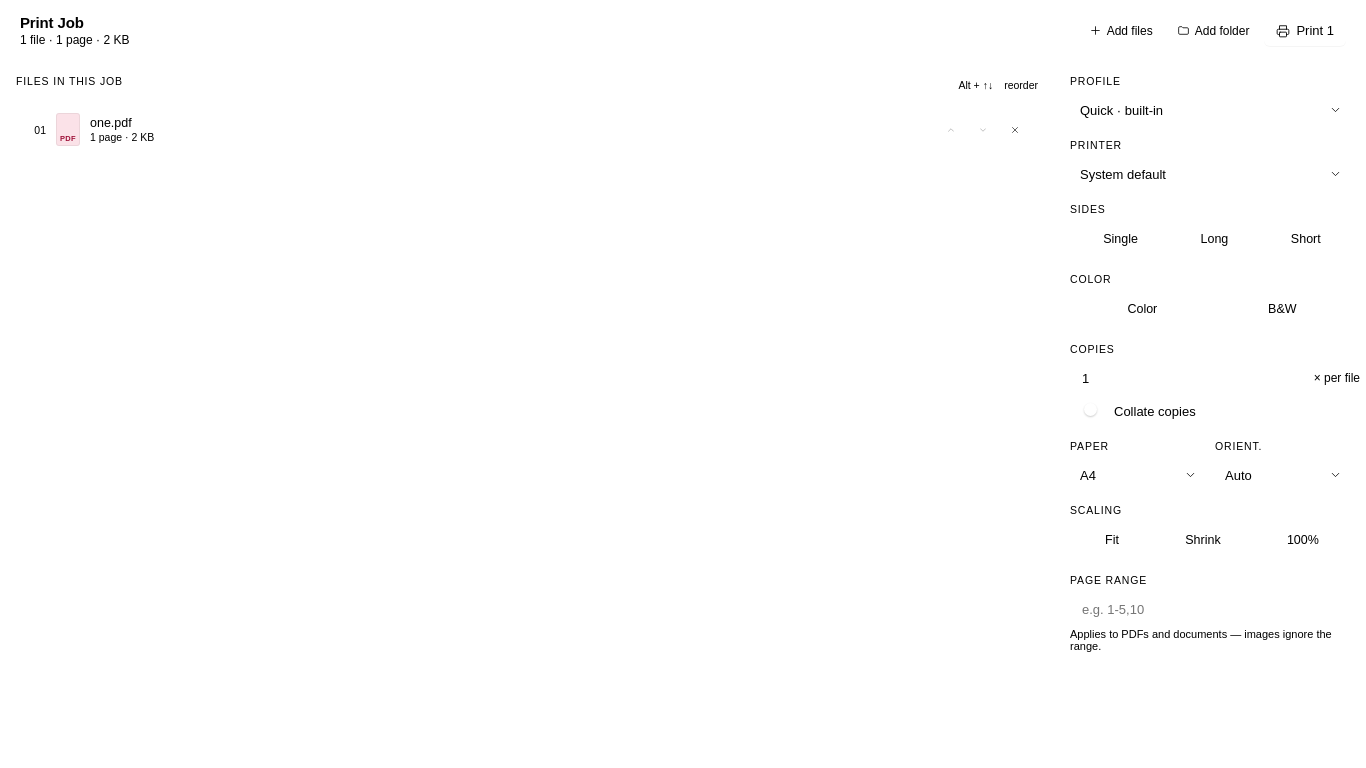
it: PrintJobScreen › FR-042: a one-page overflow reads in the singular
The image size is (1366, 768).
Type "2" into the field with placeholder "e.g. 1-5,10" at (1220, 609), box [1080,593,1360,625]
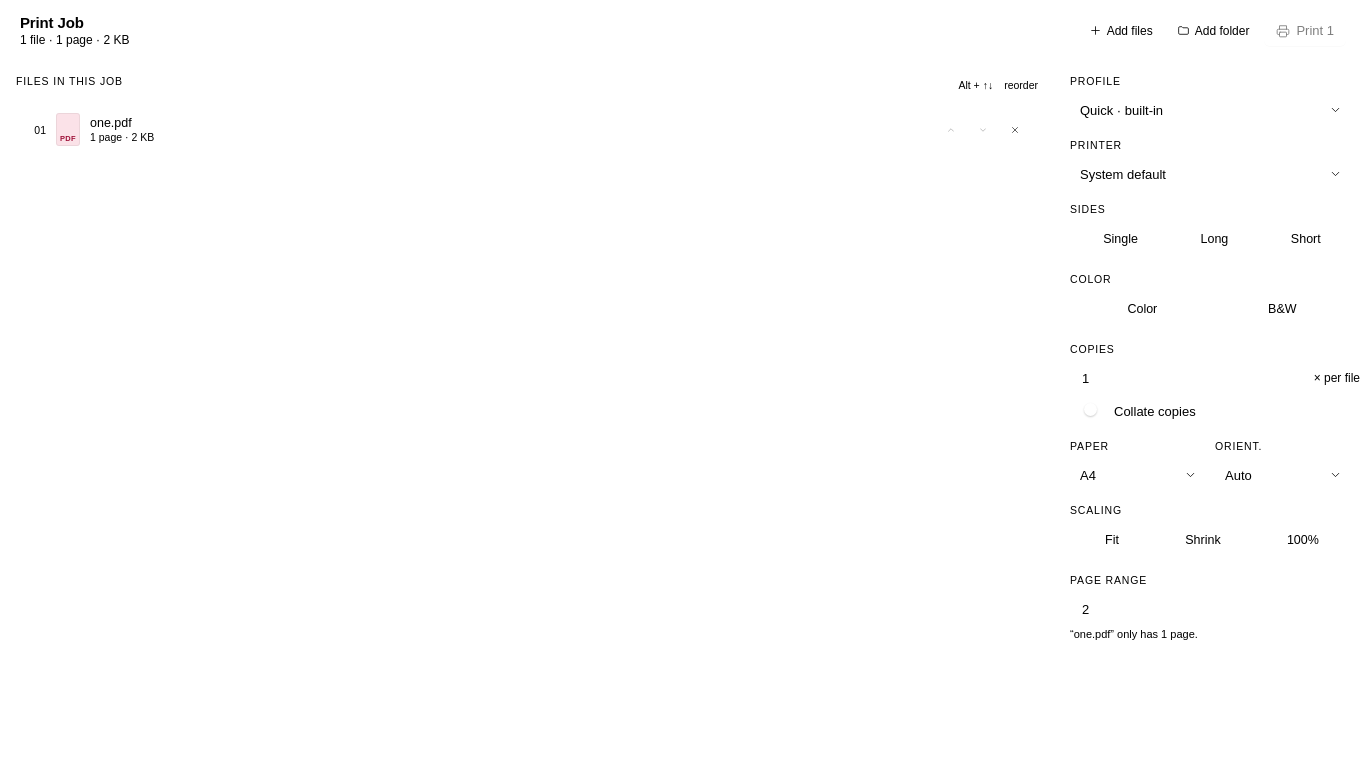
Now the message reads "“one.pdf” only has 1 page.", box [1070,628,1198,640]
